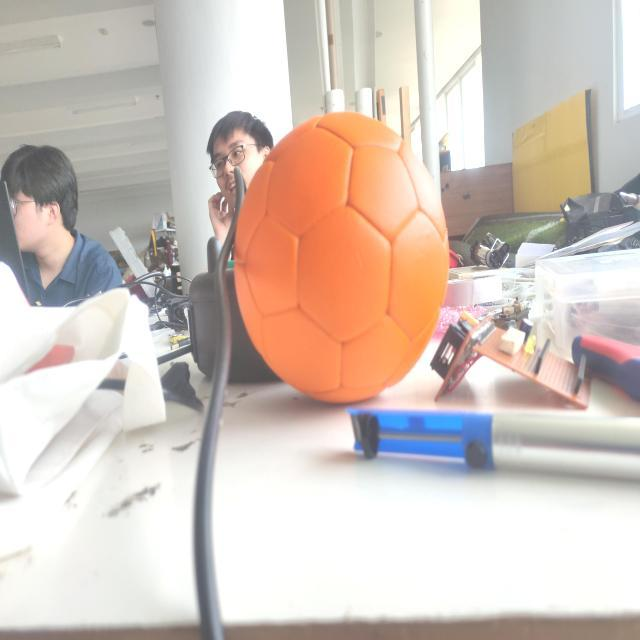bola: (230, 97, 455, 416)
